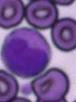M: (2, 28, 50, 78)
